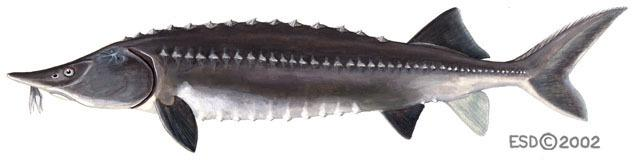Sirip Anal: (440, 85, 498, 142)
Sirip Dada: (149, 86, 207, 158)
Sirip Ekor: (514, 3, 632, 126)
Sirip Perut: (382, 92, 430, 142)
Sirip Punggung: (405, 2, 497, 66)
